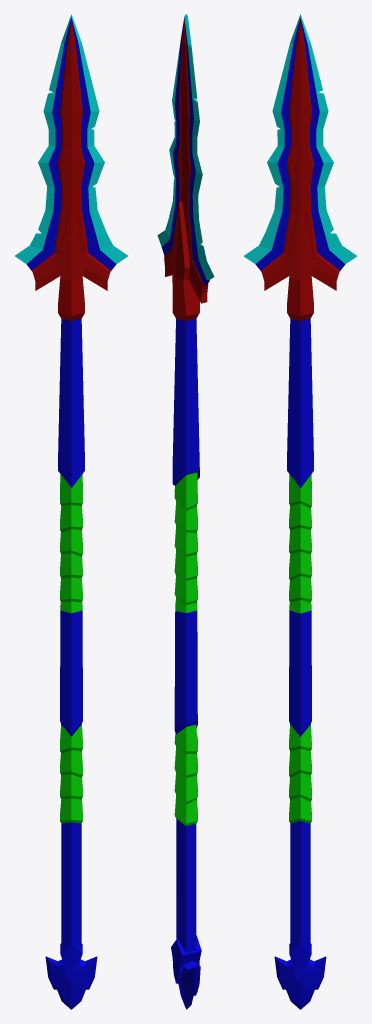
The model's file is Spear_Legendary_Dragonslayer.fbx.
3 renders of one model, left to right at view 1: azimuth 90°, elevation 25°; view 2: azimuth 210°, elevation 25°; view 3: azimuth 270°, elevation 25°, orthographic.
Parts seen in each view (by area): view 1: SM_Wep_Ornate_Spear_01; view 2: SM_Wep_Ornate_Spear_01; view 3: SM_Wep_Ornate_Spear_01.
Part boxes in pixels (bbox=[...]): SM_Wep_Ornate_Spear_01: bbox=[15, 14, 127, 1009]; SM_Wep_Ornate_Spear_01: bbox=[157, 14, 214, 1009]; SM_Wep_Ornate_Spear_01: bbox=[243, 14, 357, 1009].
Size of the model in its own units: 0.0686 by 2.39 by 0.2489.
